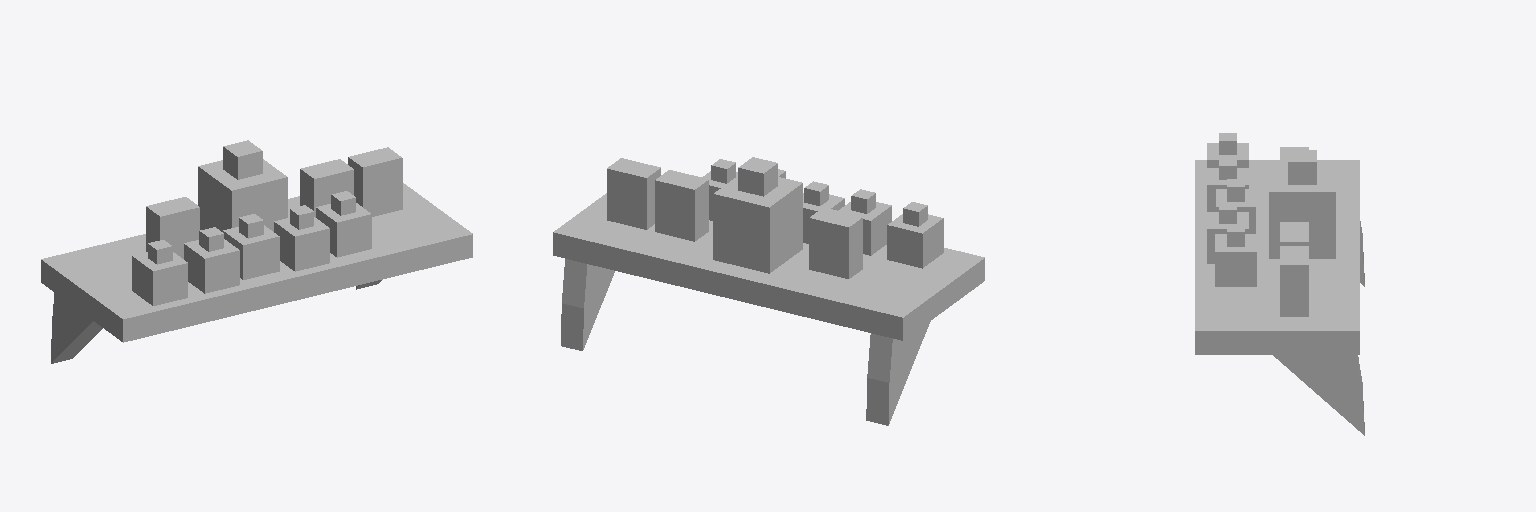
File: shelf2.obj
3 views of the same model, side by side, from view 1: azimuth 30°, elevation 25°; view 2: azimuth 150°, elevation 25°; view 3: azimuth 270°, elevation 25° (orthographic).
Parts seen in each view (by area): view 1: Box008; view 2: Box008; view 3: Box008.
Part boxes in pixels (x1,y1,x2,y2): Box008: (41,140,472,363); Box008: (553,157,984,425); Box008: (1195,133,1364,435).
Size of the model in its own units: 67.36 by 36.55 by 28.2.